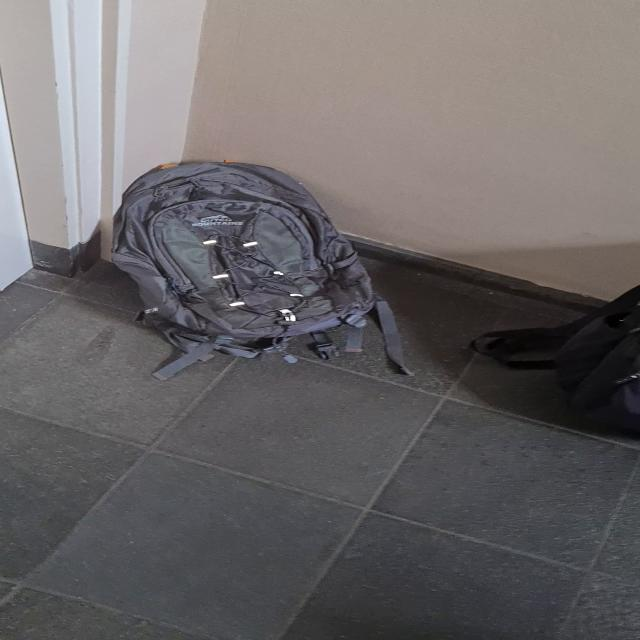backpack: (102, 157, 383, 359)
